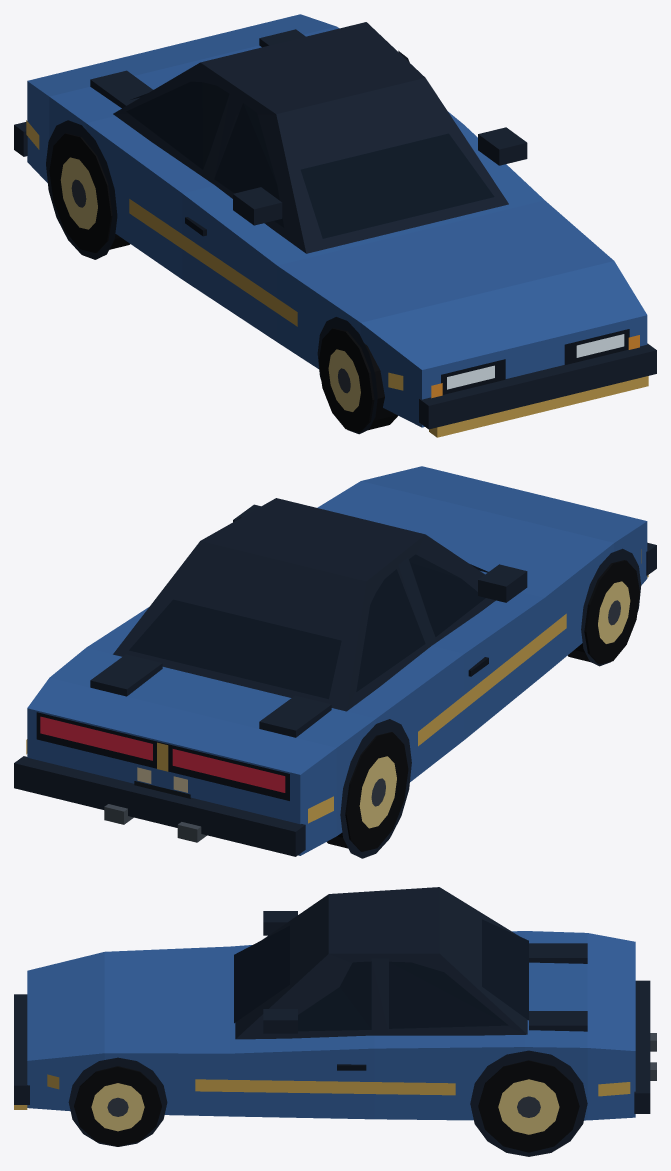
File: reimei-xr-low-poly.obj
3 views of the same model, one above another, from view 1: azimuth 30°, elevation 25°; view 2: azimuth 150°, elevation 25°; view 3: azimuth 270°, elevation 25° (orthographic). The views are drawn at different scales.
Visible parts, largest first — view 1: reimei-body-shell, reimei-rear-set-canopy, reimei-windshield, reimei-front-bumper, reimei-rear-side-window--1, reimei-front-side-window--1, reimei-rear-wheel--1-cap-a, reimei-door-accent-blade--1, reimei-front-wheel--1-cap-a, reimei-front-lip, reimei-rear-arch--1, reimei-rear-wheel--1-hub (+11 smaller); view 2: reimei-body-shell, reimei-rear-set-canopy, reimei-rear-window, reimei-rear-bumper, reimei-rear-side-window--1, reimei-rear-wheel--1-cap-a, reimei-rear-garnish, reimei-front-side-window--1, reimei-front-wheel--1-cap-a, reimei-door-accent-blade--1, reimei-left-tail-bar, reimei-right-tail-bar (+8 smaller); view 3: reimei-body-shell, reimei-rear-set-canopy, reimei-rear-side-window-1, reimei-rear-wheel-1-cap-b, reimei-windshield, reimei-rear-window, reimei-front-wheel-1-cap-b, reimei-front-side-window-1, reimei-door-accent-blade-1, reimei-rear-arch-1, reimei-rear-wheel-1-hub, reimei-rear-bumper (+10 smaller).
Part boxes in pixels (x1,y1,x2,y2): reimei-body-shell: (27,14,647,427); reimei-rear-set-canopy: (113,22,508,253); reimei-windshield: (300,133,494,238); reimei-front-bumper: (419,343,656,429); reimei-rear-side-window--1: (126,81,229,169); reimei-front-side-window--1: (214,103,283,227); reimei-rear-wheel--1-cap-a: (49,133,110,252); reimei-door-accent-blade--1: (129,199,297,326); reimei-front-wheel--1-cap-a: (318,328,372,432); reimei-front-lip: (429,376,648,437); reimei-rear-arch--1: (46,120,117,259); reimei-rear-wheel--1-hub: (60,157,97,229); reimei-body-shell: (27,466,647,855); reimei-rear-set-canopy: (113,498,495,711); reimei-rear-window: (129,599,341,699); reimei-rear-bumper: (14,756,305,856); reimei-rear-side-window--1: (356,569,425,691); reimei-rear-wheel--1-cap-a: (346,732,408,851); reimei-rear-garnish: (36,712,289,800); reimei-front-side-window--1: (409,554,485,636); reimei-front-wheel--1-cap-a: (586,560,639,664); reimei-door-accent-blade--1: (418,613,566,746); reimei-left-tail-bar: (172,749,285,792); reimei-right-tail-bar: (40,716,152,760); reimei-body-shell: (27,931,635,1120); reimei-rear-set-canopy: (235,887,527,1039); reimei-rear-side-window-1: (389,961,508,1028); reimei-rear-wheel-1-cap-b: (478,1061,579,1152); reimei-windshield: (234,925,289,1023); reimei-rear-window: (482,919,528,1020); reimei-front-wheel-1-cap-b: (74,1067,161,1146); reimei-front-side-window-1: (298,961,371,1031); reimei-door-accent-blade-1: (195,1079,455,1095); reimei-rear-arch-1: (470,1050,587,1156); reimei-rear-wheel-1-hub: (498,1079,559,1134); reimei-rear-bumper: (634,980,650,1113).
Bounding box in the file's own units: 2.13 × 1.47 × 4.82.
